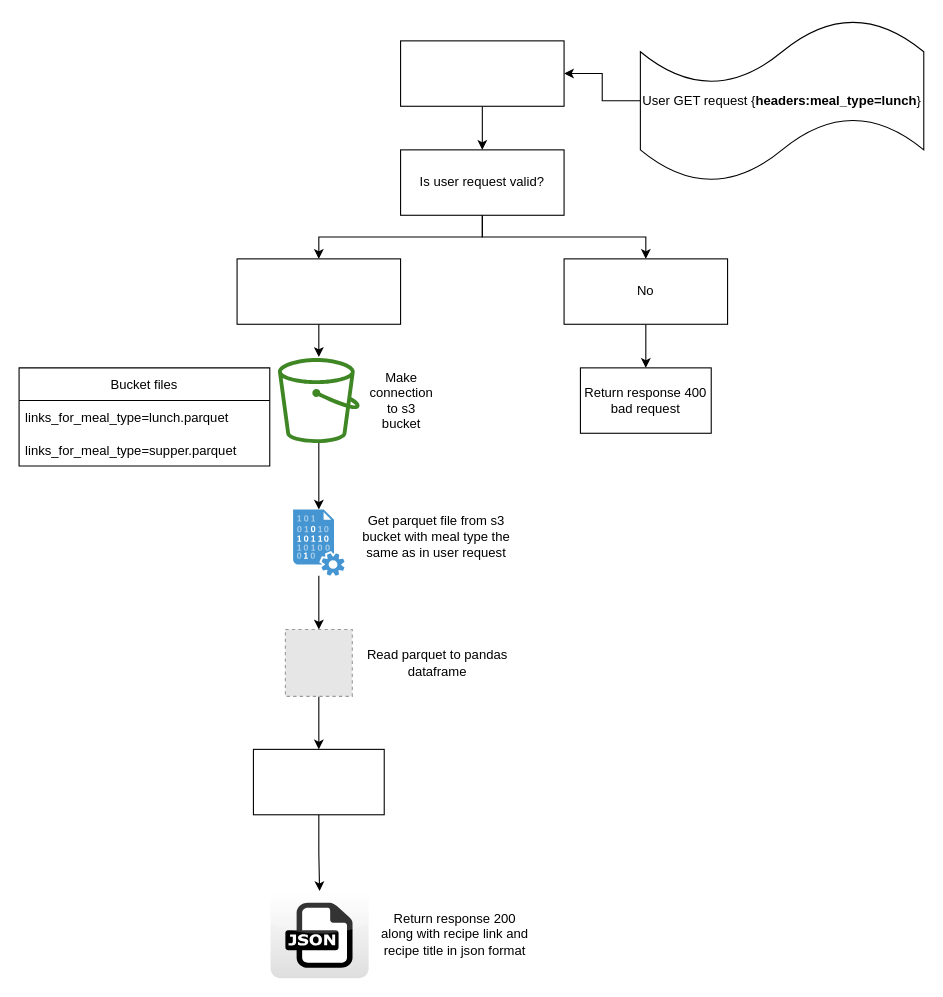
The diagram is 943 pixels wide and 997 high, and some of its shapes have lost their labels. Grey dashed boxes stand in for pictures. Here are the shapes that lost their labels. From the top down, the centre of each, then its label:
At point (481, 73): "API endpoint: recipes/random_recipe".
At point (318, 291): "Yes".
At point (318, 781): "Get random row with title and link from dataframe".
